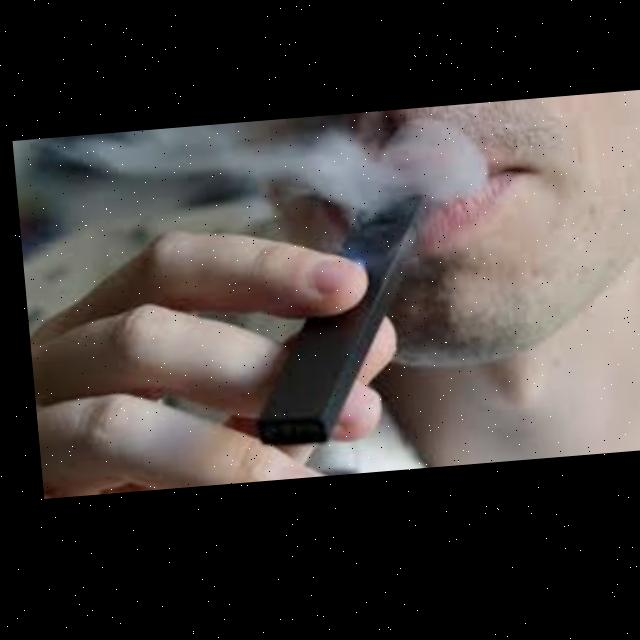vape: (236, 197, 439, 452)
